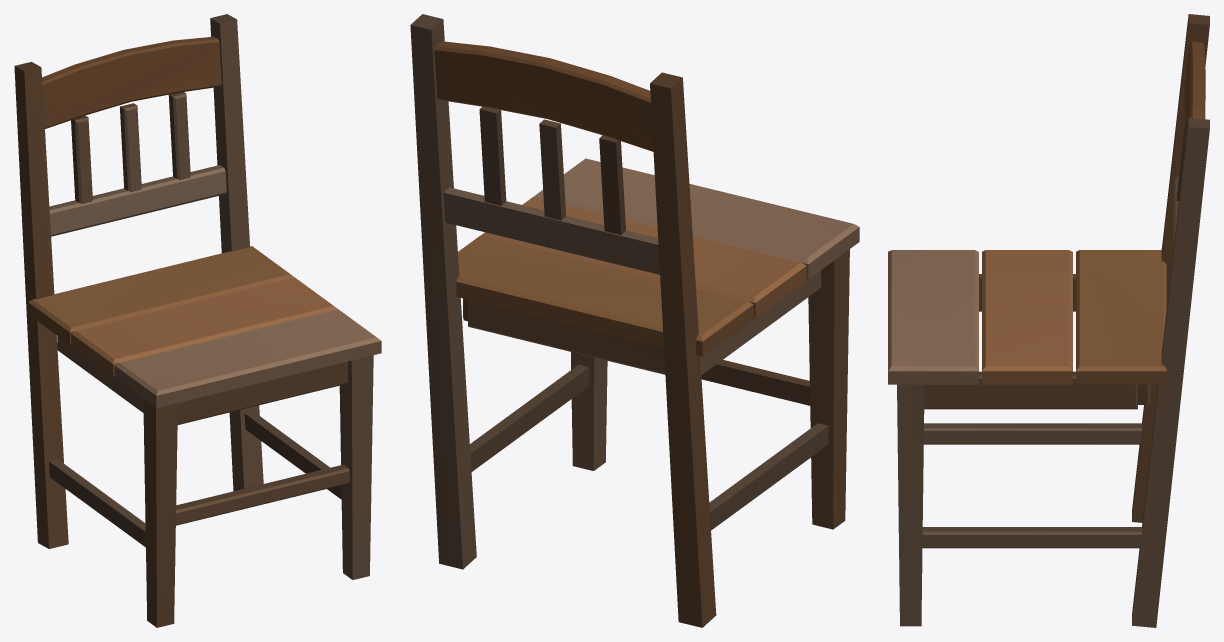
File: wooden_chair_01.glb
The picture shows the model from 3 angles, left to right: view 1: azimuth 30°, elevation 25°; view 2: azimuth 150°, elevation 25°; view 3: azimuth 270°, elevation 25°; orthographic projection. The views are drawn at different scales.
Parts seen in each view (by area): view 1: wooden_chair_01_body; view 2: wooden_chair_01_body; view 3: wooden_chair_01_body.
Boxes of the visible parts, <box> form: wooden_chair_01_body: <box>14,14,381,627</box>; wooden_chair_01_body: <box>410,14,859,627</box>; wooden_chair_01_body: <box>888,14,1209,627</box>.
Size of the model in its own units: 0.46 by 0.8992 by 0.5243.
